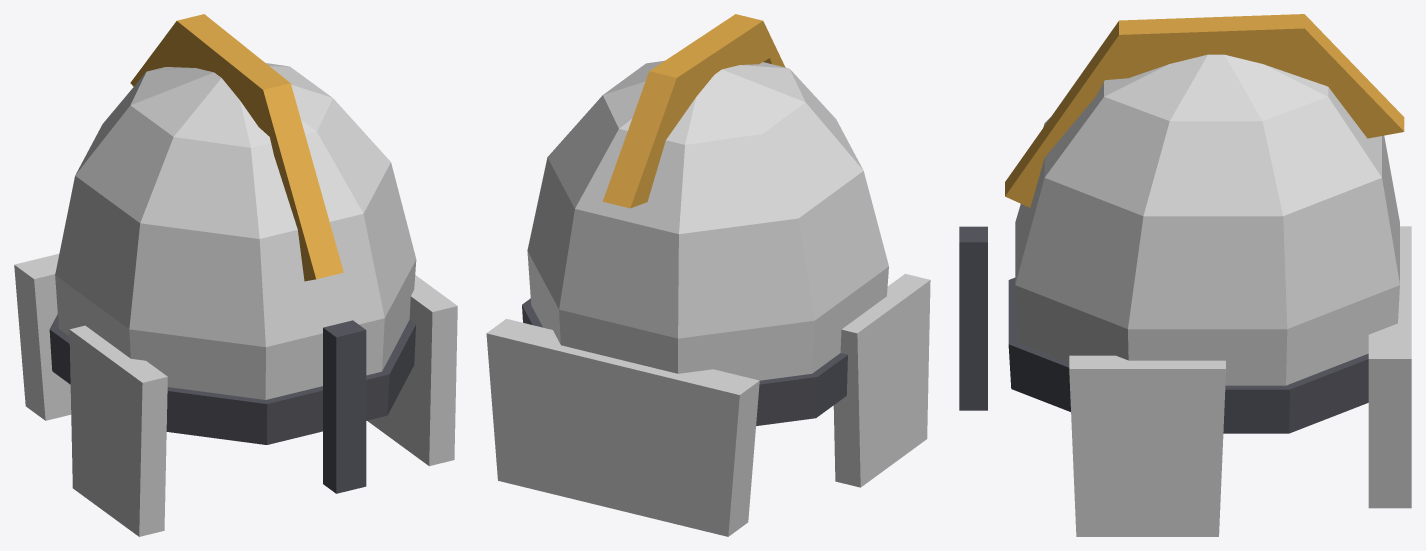
The model's file is armor_helmet_str.glb.
The picture shows the model from 3 angles, left to right: view 1: azimuth 30°, elevation 25°; view 2: azimuth 150°, elevation 25°; view 3: azimuth 270°, elevation 25°; orthographic projection. The views are drawn at different scales.
Visible parts, largest first — view 1: armor_helmet_str; view 2: armor_helmet_str; view 3: armor_helmet_str.
Part boxes in pixels (x1,y1,x2,y2): armor_helmet_str: [14, 14, 457, 536]; armor_helmet_str: [486, 14, 930, 536]; armor_helmet_str: [959, 14, 1411, 536].
Size of the model in its own units: 0.274 by 0.335 by 0.317.
